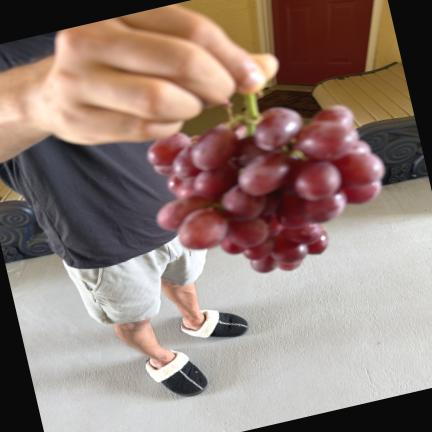grape_cluster: (147, 94, 385, 273)
